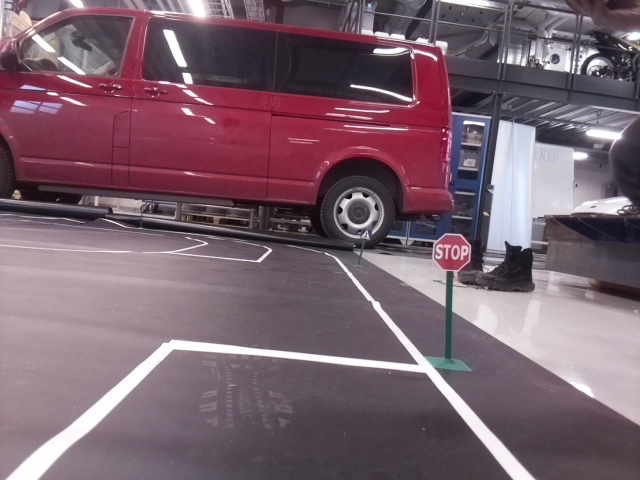Stop: (433, 230, 471, 272)
